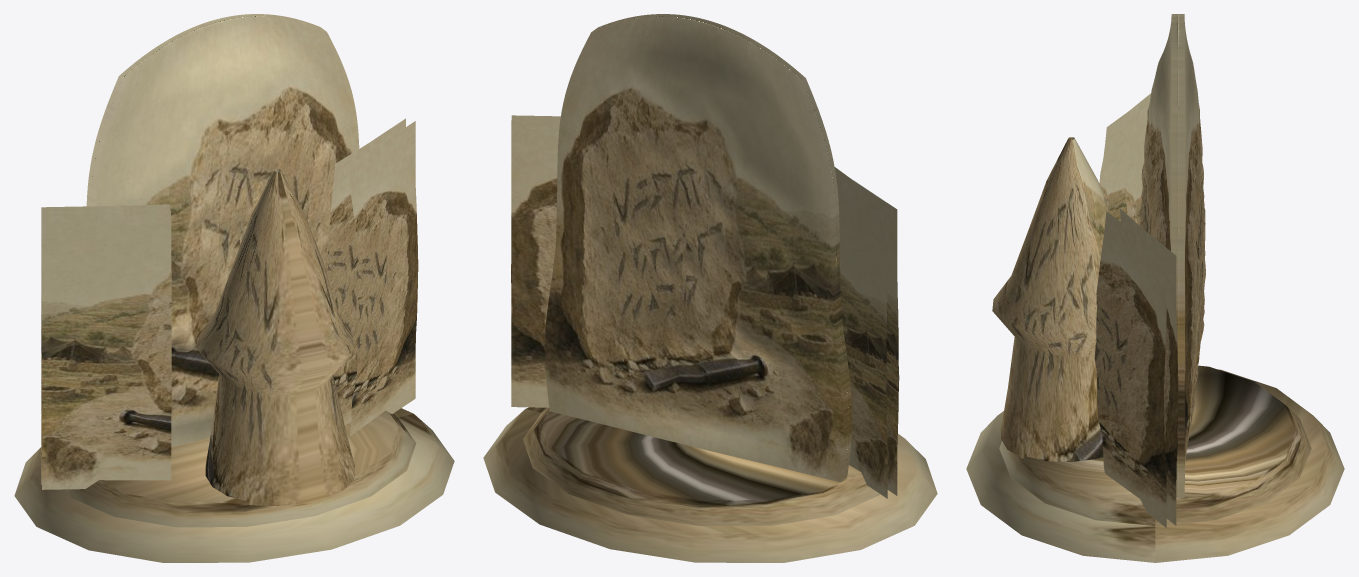
Rendered from out-of-the-whirlwind-19.glb.
3 views of the same model, side by side, from view 1: azimuth 30°, elevation 25°; view 2: azimuth 150°, elevation 25°; view 3: azimuth 270°, elevation 25° (orthographic). The views are drawn at different scales.
Visible parts, largest first — view 1: PaintingSculptureMonument; view 2: PaintingSculptureMonument; view 3: PaintingSculptureMonument.
Part boxes in pixels (x1,y1,x2,y2): PaintingSculptureMonument: (14,14,454,562); PaintingSculptureMonument: (483,14,937,562); PaintingSculptureMonument: (966,14,1344,562).
Size of the model in its own units: 2.76 by 2.99 by 2.35.
1 material, 1 textured.
